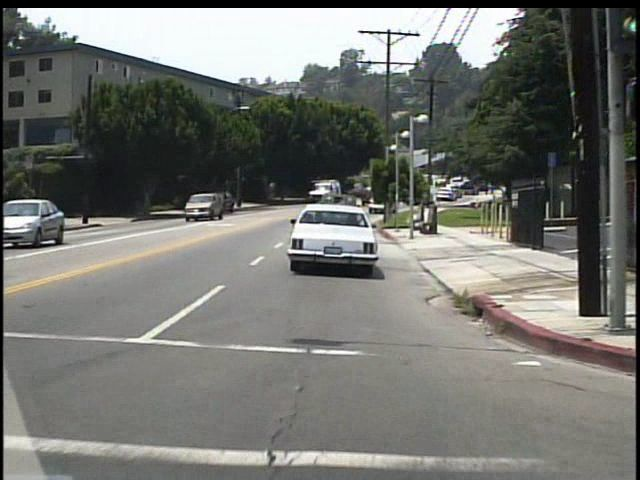person: (45, 199, 58, 228)
